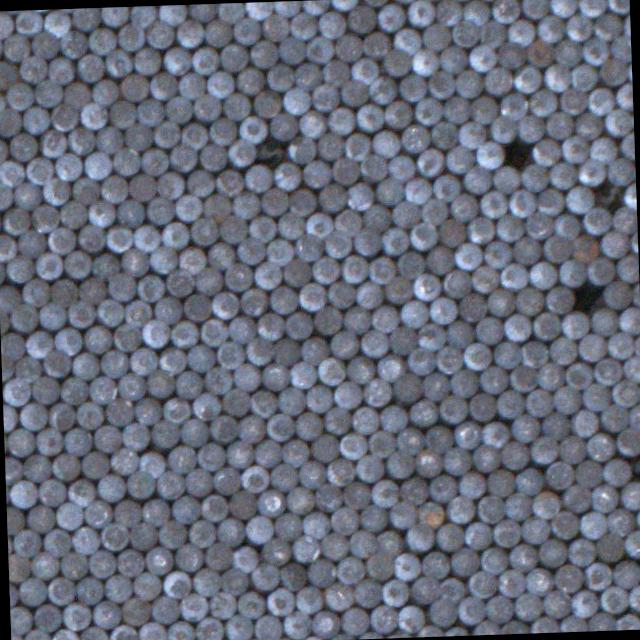tool: (348, 528, 379, 558), (202, 18, 232, 48), (77, 276, 106, 306), (268, 284, 298, 313), (185, 342, 214, 372), (386, 325, 416, 354), (191, 566, 220, 596), (140, 318, 169, 347), (312, 305, 341, 334), (58, 29, 88, 57), (288, 10, 316, 40), (249, 38, 277, 68), (304, 35, 334, 63), (482, 66, 512, 94), (390, 200, 420, 228), (424, 246, 454, 274), (238, 286, 266, 316), (384, 274, 412, 304), (442, 269, 472, 297), (399, 298, 427, 328), (602, 280, 632, 308), (100, 348, 128, 378), (129, 346, 157, 376), (462, 340, 490, 370), (392, 372, 422, 400), (8, 478, 36, 508), (594, 533, 624, 561), (291, 532, 319, 562), (364, 550, 392, 580), (120, 597, 150, 625), (410, 576, 440, 604), (552, 564, 582, 592), (282, 610, 310, 640), (87, 26, 116, 54), (346, 5, 375, 33), (161, 46, 190, 74), (333, 33, 362, 61), (451, 18, 479, 47), (292, 62, 321, 90), (8, 132, 36, 161), (586, 86, 614, 115), (400, 124, 429, 152), (587, 136, 616, 164), (581, 206, 610, 234), (148, 244, 176, 273), (524, 211, 553, 239), (112, 322, 141, 350), (458, 292, 486, 321), (486, 287, 514, 316), (216, 339, 244, 368), (300, 335, 328, 364), (359, 328, 388, 356), (444, 319, 472, 348), (362, 377, 390, 406), (524, 388, 552, 417), (424, 426, 453, 454), (341, 480, 369, 509), (99, 522, 128, 550), (329, 506, 358, 534), (260, 536, 289, 564), (319, 532, 348, 560), (306, 558, 335, 586), (428, 597, 456, 626), (483, 594, 512, 622), (310, 609, 338, 638), (544, 461, 574, 488), (30, 550, 57, 580), (42, 8, 70, 36), (232, 16, 260, 44), (317, 10, 345, 38), (376, 3, 404, 31), (76, 54, 104, 82), (132, 46, 160, 74), (190, 46, 218, 74), (220, 43, 248, 71), (34, 80, 62, 108), (120, 74, 148, 102), (205, 70, 233, 98), (438, 44, 466, 72), (468, 42, 496, 70), (496, 40, 524, 68), (222, 92, 250, 120), (252, 90, 280, 118), (282, 86, 310, 114), (310, 82, 338, 110), (397, 73, 425, 101), (454, 69, 482, 97), (238, 115, 266, 143), (414, 96, 442, 124), (498, 92, 526, 120), (83, 151, 111, 179), (286, 136, 314, 164), (532, 138, 560, 166), (560, 134, 588, 162), (70, 176, 98, 204), (127, 172, 155, 200), (244, 164, 272, 192), (272, 162, 300, 190), (445, 144, 473, 172), (462, 165, 490, 193), (606, 157, 634, 185), (58, 200, 86, 228), (146, 196, 174, 224), (202, 194, 230, 222), (260, 187, 288, 215), (318, 184, 346, 212), (344, 182, 372, 210), (160, 220, 188, 248), (294, 232, 322, 260), (352, 228, 380, 256), (408, 221, 436, 249), (193, 267, 221, 295), (253, 260, 281, 288), (282, 258, 310, 286), (511, 236, 539, 264), (36, 302, 64, 330), (153, 296, 181, 324), (182, 293, 210, 321), (210, 290, 238, 318), (298, 282, 326, 310), (327, 280, 355, 308), (527, 260, 555, 288), (542, 234, 570, 262), (24, 330, 52, 358), (199, 317, 227, 345), (370, 304, 398, 332), (428, 296, 456, 324), (544, 285, 572, 313), (245, 336, 273, 364), (329, 330, 357, 358), (116, 372, 144, 400), (316, 356, 344, 384), (407, 346, 435, 374), (577, 332, 605, 360), (18, 402, 46, 430), (162, 396, 190, 424), (276, 386, 304, 414), (332, 380, 360, 408), (478, 366, 506, 394), (265, 412, 293, 440), (22, 454, 50, 482), (110, 446, 138, 474), (167, 444, 195, 472), (196, 442, 224, 470), (396, 426, 424, 454), (584, 432, 612, 460), (54, 502, 82, 530), (256, 488, 284, 516), (286, 486, 314, 514), (369, 478, 397, 506), (574, 460, 602, 488), (562, 484, 590, 512), (70, 526, 98, 554), (128, 522, 156, 550), (157, 520, 185, 548), (272, 512, 300, 540), (359, 504, 387, 532), (388, 500, 416, 528), (434, 522, 462, 550), (420, 550, 448, 578), (520, 514, 548, 542), (537, 538, 565, 566), (144, 546, 172, 574), (250, 562, 278, 590), (18, 576, 46, 604), (132, 570, 160, 598), (162, 570, 190, 598), (178, 592, 206, 620), (92, 600, 120, 628), (208, 590, 236, 618), (266, 587, 294, 615), (324, 582, 352, 610), (352, 578, 380, 606), (380, 578, 408, 606), (468, 570, 496, 598), (456, 596, 484, 624), (524, 568, 552, 596), (583, 561, 611, 589), (514, 592, 542, 620), (368, 604, 396, 632), (552, 39, 581, 66), (301, 160, 330, 187), (49, 278, 76, 307), (165, 267, 192, 296), (454, 241, 481, 270), (232, 362, 259, 391), (180, 418, 207, 447), (228, 489, 255, 518), (336, 555, 363, 584), (46, 576, 75, 603), (598, 230, 628, 256), (30, 31, 58, 58), (145, 20, 172, 48), (176, 19, 203, 47), (261, 13, 288, 41), (47, 56, 74, 84), (105, 48, 132, 76), (393, 27, 421, 54), (62, 82, 90, 109), (149, 73, 177, 100), (177, 72, 204, 100), (350, 58, 378, 85), (382, 48, 410, 75), (525, 38, 552, 66), (22, 106, 49, 134), (426, 70, 454, 97), (268, 111, 295, 139), (326, 107, 354, 134), (528, 88, 556, 115), (112, 147, 140, 174), (140, 148, 168, 175), (168, 143, 196, 170), (227, 138, 254, 166), (457, 120, 484, 148), (516, 115, 544, 142), (100, 174, 127, 202), (155, 171, 182, 199), (214, 169, 242, 196), (520, 163, 548, 190), (577, 157, 604, 185), (31, 204, 58, 232), (173, 193, 201, 220), (230, 192, 258, 219), (286, 188, 314, 215), (376, 178, 404, 205), (16, 230, 44, 257), (47, 226, 74, 254), (190, 217, 218, 244), (218, 215, 246, 242), (276, 212, 304, 239), (362, 204, 390, 231), (478, 190, 506, 217), (564, 185, 592, 212), (5, 254, 32, 282), (120, 248, 147, 276), (237, 236, 264, 264), (324, 229, 351, 257), (437, 218, 464, 246), (495, 214, 523, 241), (21, 278, 48, 306), (107, 272, 134, 300), (136, 274, 163, 302), (224, 262, 251, 290), (311, 256, 338, 284), (340, 255, 368, 282), (483, 240, 510, 268), (10, 304, 37, 332), (123, 300, 150, 328), (354, 281, 382, 308), (412, 272, 439, 300), (499, 262, 526, 290), (170, 321, 198, 348), (256, 312, 284, 339), (284, 311, 311, 339), (42, 349, 70, 376), (158, 346, 185, 374), (272, 336, 299, 364), (416, 322, 444, 349), (31, 375, 58, 403), (59, 376, 86, 404), (146, 368, 173, 396), (173, 370, 200, 398), (492, 341, 520, 368), (503, 312, 530, 340), (533, 311, 560, 339), (519, 340, 547, 367), (548, 337, 576, 364), (191, 392, 219, 419), (420, 372, 448, 399), (150, 420, 178, 447), (294, 412, 322, 439), (408, 399, 436, 426), (438, 396, 466, 423), (553, 385, 580, 413), (581, 382, 608, 410), (225, 440, 252, 468), (253, 439, 280, 467), (281, 439, 308, 467), (310, 434, 338, 461), (511, 414, 538, 442), (240, 464, 267, 492), (354, 454, 381, 482), (500, 441, 528, 468), (26, 504, 53, 532), (112, 500, 140, 527), (314, 483, 341, 511), (428, 474, 455, 502), (486, 469, 514, 496), (514, 468, 542, 495), (602, 459, 630, 486), (446, 494, 473, 522), (503, 492, 531, 519), (530, 491, 558, 518), (578, 511, 606, 538), (566, 538, 594, 565), (188, 518, 215, 546), (244, 515, 271, 543), (300, 511, 328, 538), (463, 521, 491, 548), (450, 547, 478, 574), (508, 543, 535, 571), (59, 551, 87, 578), (116, 548, 143, 576), (174, 543, 201, 571), (204, 542, 231, 570), (220, 566, 247, 594), (103, 574, 130, 602), (151, 596, 178, 624), (32, 604, 59, 632), (497, 568, 524, 596), (612, 560, 640, 587), (340, 607, 368, 634), (508, 188, 534, 217), (472, 263, 498, 292), (227, 316, 256, 342), (422, 23, 449, 50), (5, 82, 32, 109), (79, 102, 106, 129), (512, 65, 539, 92), (199, 143, 226, 170), (372, 130, 399, 157), (545, 111, 572, 138), (574, 112, 601, 139), (331, 157, 358, 184), (415, 148, 442, 175), (432, 173, 459, 200), (333, 208, 360, 235), (449, 193, 476, 220), (466, 215, 493, 242), (396, 251, 423, 278), (586, 257, 613, 284), (2, 377, 29, 404), (88, 376, 115, 403), (203, 366, 230, 393), (606, 331, 633, 358), (75, 401, 102, 428), (248, 389, 275, 416), (449, 369, 476, 396), (121, 422, 148, 449), (468, 394, 495, 421), (611, 379, 638, 406), (368, 429, 395, 456), (14, 10, 42, 36), (3, 33, 29, 61), (118, 22, 144, 50), (361, 32, 389, 58), (321, 61, 349, 87), (478, 20, 504, 48), (582, 38, 608, 66), (108, 100, 134, 128), (136, 98, 162, 126), (192, 94, 220, 120), (340, 78, 368, 104), (570, 63, 596, 91), (598, 58, 626, 84), (68, 126, 94, 154), (95, 126, 121, 154), (123, 124, 151, 150), (208, 119, 236, 145), (298, 110, 324, 138), (26, 156, 52, 184), (343, 132, 369, 160), (476, 140, 502, 168), (13, 181, 39, 209), (185, 170, 213, 196), (386, 154, 414, 180), (492, 165, 518, 193), (548, 162, 576, 188), (1, 208, 29, 234), (116, 200, 142, 228), (64, 250, 90, 278), (206, 242, 232, 270), (96, 298, 122, 326), (572, 234, 598, 262), (53, 328, 81, 354), (84, 325, 110, 353), (516, 286, 542, 314), (13, 354, 39, 382), (288, 360, 314, 388), (376, 354, 404, 380), (436, 345, 462, 373), (560, 312, 588, 338), (590, 308, 618, 334), (46, 402, 74, 428), (222, 387, 248, 415), (304, 384, 330, 412), (508, 364, 536, 390), (593, 358, 621, 384), (6, 428, 32, 456), (209, 414, 235, 442), (238, 414, 264, 442), (496, 390, 522, 418), (51, 452, 79, 478), (138, 450, 164, 478), (570, 408, 596, 436), (476, 496, 504, 522), (590, 484, 616, 512), (550, 511, 578, 537), (606, 508, 632, 536), (12, 528, 38, 556), (42, 528, 68, 556), (216, 518, 242, 546), (492, 518, 518, 546), (479, 547, 507, 573), (88, 550, 114, 578), (278, 562, 304, 590), (62, 602, 88, 630), (438, 576, 464, 604), (542, 590, 570, 616), (600, 586, 628, 612), (407, 0, 434, 26), (19, 56, 46, 82), (278, 36, 304, 63), (91, 79, 118, 105), (507, 19, 533, 46), (593, 14, 620, 40), (50, 103, 76, 130), (368, 76, 395, 102), (180, 123, 207, 149), (384, 100, 411, 126), (441, 96, 468, 122), (54, 153, 80, 180), (430, 121, 456, 148), (42, 177, 68, 204), (359, 153, 385, 180), (87, 200, 113, 227), (404, 176, 431, 202), (77, 224, 104, 250), (105, 226, 132, 252), (132, 224, 159, 250), (248, 215, 275, 241), (305, 212, 332, 238), (611, 205, 637, 232), (34, 252, 61, 278), (92, 253, 118, 280), (178, 248, 205, 274), (266, 238, 292, 265), (342, 307, 369, 333), (262, 363, 288, 390), (105, 398, 132, 424), (536, 362, 563, 388), (564, 362, 591, 388), (92, 425, 119, 451), (454, 422, 480, 449), (481, 422, 508, 448), (37, 478, 64, 504), (84, 500, 110, 527), (142, 499, 168, 526), (172, 496, 198, 523), (200, 494, 227, 520), (399, 477, 426, 503), (232, 545, 258, 572), (294, 586, 321, 612), (224, 614, 251, 640), (253, 614, 280, 640), (461, 0, 489, 25), (411, 47, 436, 75), (346, 357, 374, 382), (126, 471, 154, 496), (384, 451, 412, 476), (414, 448, 439, 476), (398, 604, 423, 632), (536, 16, 562, 42), (564, 15, 590, 41), (165, 96, 191, 122), (544, 64, 570, 90), (153, 121, 179, 147), (356, 103, 382, 129), (470, 96, 496, 122), (560, 88, 586, 114), (317, 133, 343, 159), (604, 108, 630, 134), (382, 228, 408, 254), (552, 213, 578, 239), (68, 300, 94, 326), (558, 259, 584, 285), (72, 352, 98, 378), (476, 317, 502, 343), (64, 428, 90, 454), (379, 406, 405, 432), (82, 452, 108, 478), (600, 404, 626, 430), (97, 474, 123, 500), (184, 468, 210, 494), (270, 462, 296, 488), (442, 448, 468, 474), (472, 444, 498, 470), (558, 436, 584, 462), (458, 472, 484, 498), (406, 524, 432, 550), (392, 553, 418, 579), (76, 578, 102, 604), (236, 592, 262, 618), (570, 590, 596, 616), (266, 65, 293, 90), (351, 406, 376, 433), (417, 501, 442, 528), (0, 332, 24, 360), (338, 434, 366, 458), (236, 69, 262, 94), (40, 130, 65, 156), (537, 188, 562, 214), (368, 257, 393, 283), (134, 398, 160, 423), (36, 427, 61, 453), (323, 408, 349, 433), (542, 414, 568, 439), (157, 471, 182, 497), (212, 467, 238, 492), (327, 458, 352, 484), (530, 437, 556, 462), (376, 530, 401, 556), (490, 115, 514, 142), (422, 198, 446, 225), (616, 254, 639, 282), (215, 2, 244, 24), (490, 0, 519, 22), (8, 551, 29, 581), (298, 461, 323, 486), (68, 478, 92, 504), (616, 428, 640, 454), (129, 5, 156, 28), (617, 306, 640, 333), (194, 617, 221, 640), (436, 0, 461, 24), (0, 160, 23, 186), (72, 8, 99, 30), (619, 480, 640, 508), (10, 606, 31, 634), (164, 620, 193, 640), (157, 4, 185, 24), (0, 108, 20, 136), (99, 7, 128, 26), (138, 620, 165, 640), (586, 612, 614, 631), (520, 0, 549, 18), (622, 528, 640, 557), (621, 354, 640, 381), (6, 507, 24, 535), (611, 36, 631, 61), (578, 0, 607, 17), (245, 2, 272, 20), (615, 83, 633, 110), (0, 286, 18, 313), (186, 4, 216, 20), (549, 0, 577, 17), (0, 60, 17, 88), (528, 616, 556, 633), (558, 615, 586, 632), (5, 457, 22, 484), (108, 623, 135, 640), (614, 613, 640, 630), (0, 233, 16, 260), (472, 619, 499, 635), (272, 1, 300, 16), (78, 625, 106, 640), (300, 0, 328, 14), (620, 130, 634, 158), (622, 182, 636, 210), (2, 403, 16, 430), (499, 620, 526, 634), (627, 403, 640, 430), (51, 627, 78, 640), (627, 583, 640, 610), (0, 11, 12, 38), (1, 353, 13, 380), (23, 628, 50, 640), (606, 0, 629, 12), (0, 182, 10, 208), (330, 0, 357, 9), (0, 138, 5, 163), (0, 89, 4, 115)
tool_b: (253, 136, 284, 168), (590, 178, 622, 208), (625, 454, 640, 483)
void: (572, 283, 604, 311), (500, 136, 532, 162)
